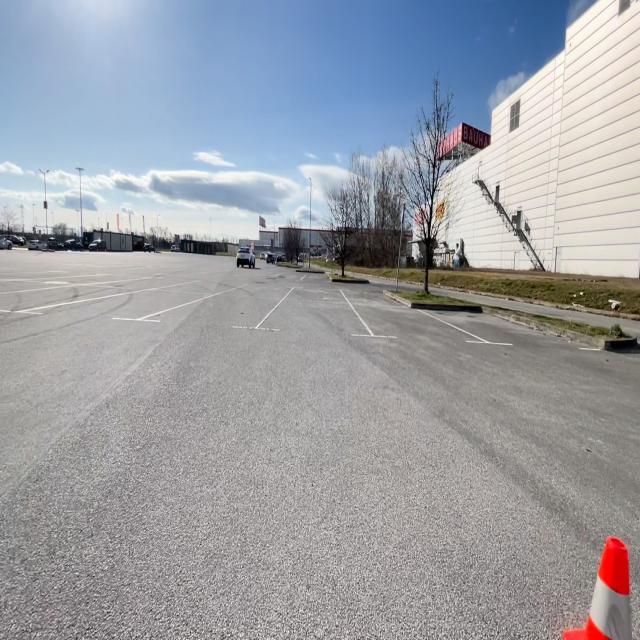orange_cone: (555, 532, 635, 640)
